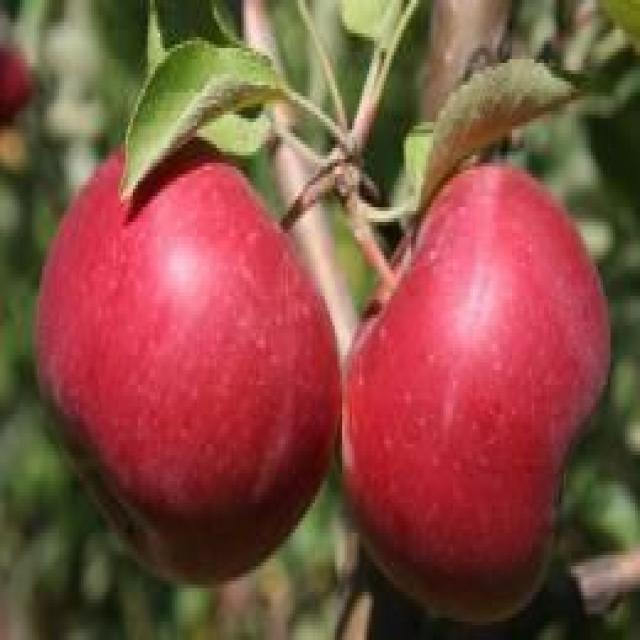Fresh Apple: (54, 147, 338, 588), (344, 180, 608, 623)
